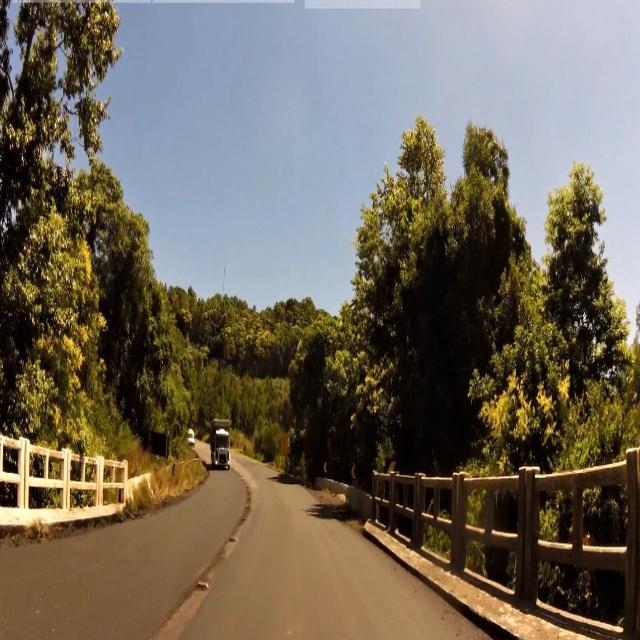Del: (349, 463, 357, 479)
